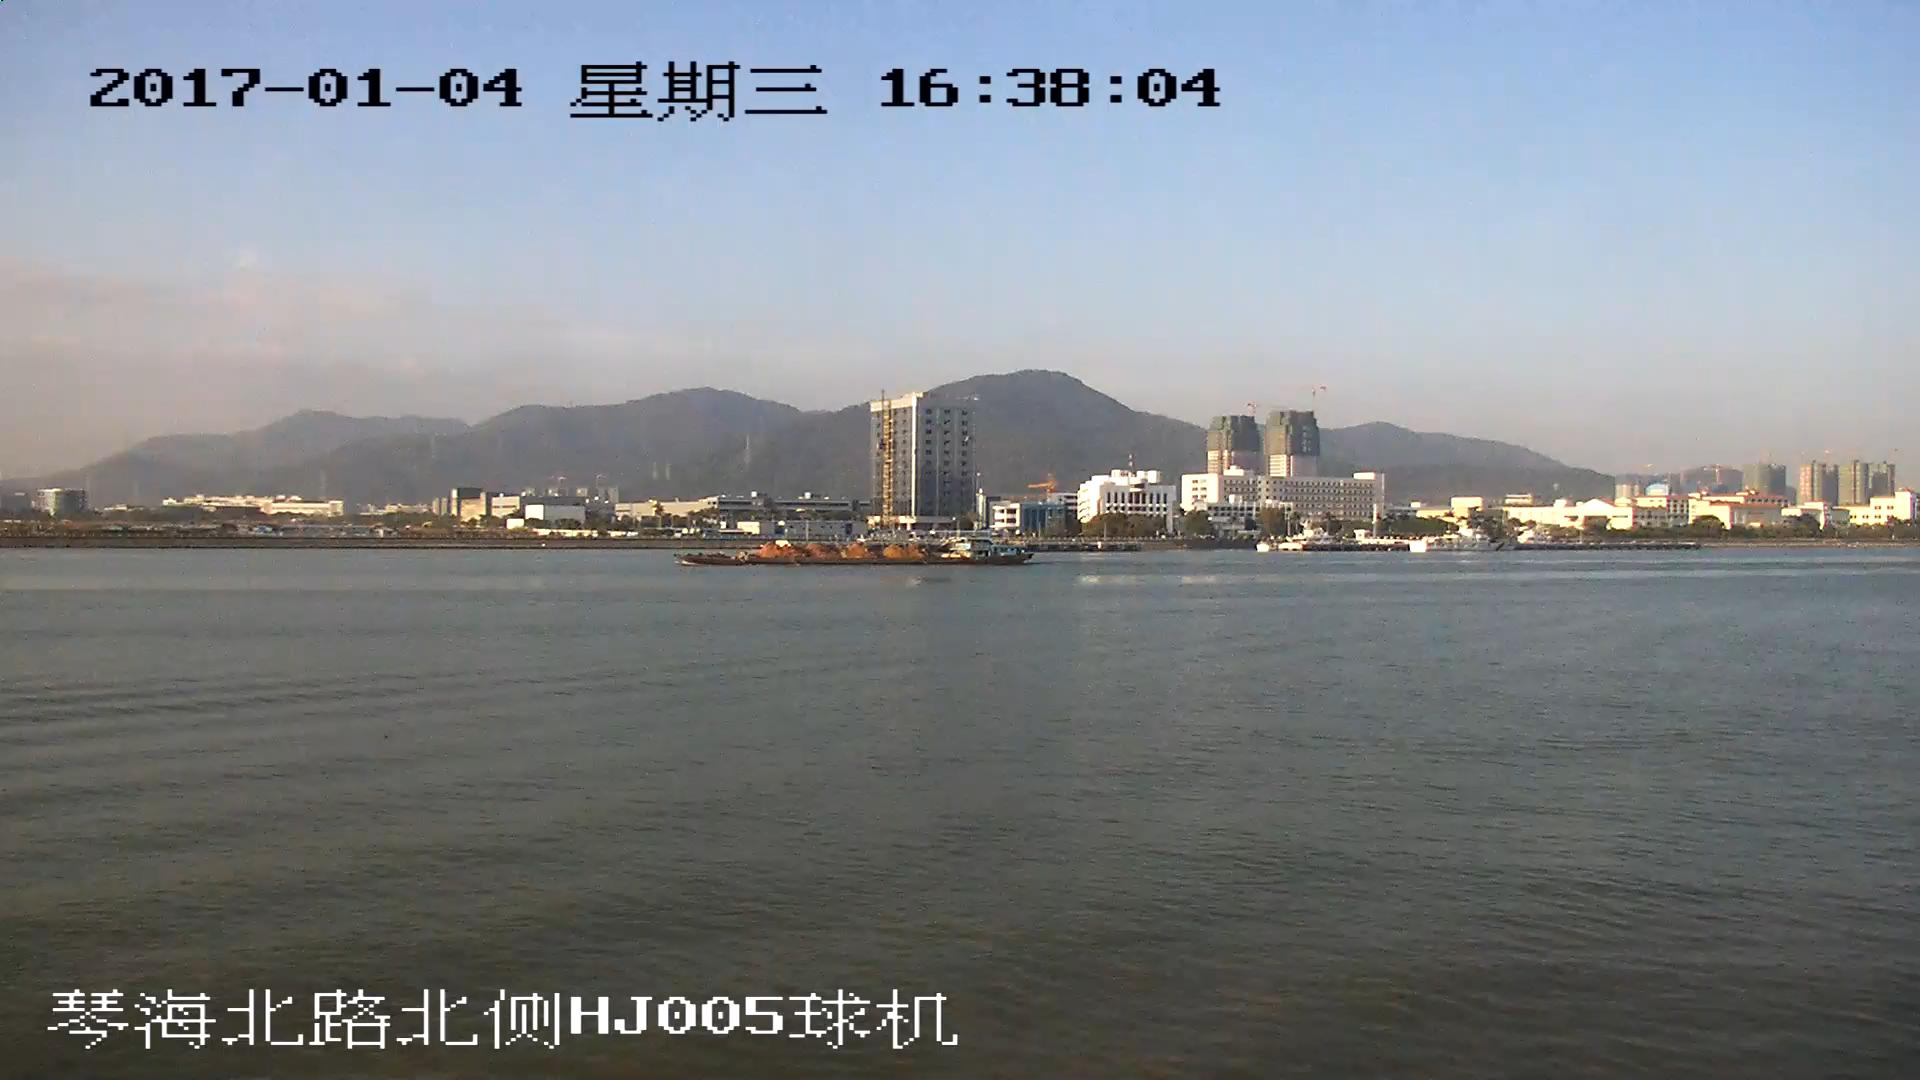ore carrier: (691, 538, 1028, 568)
